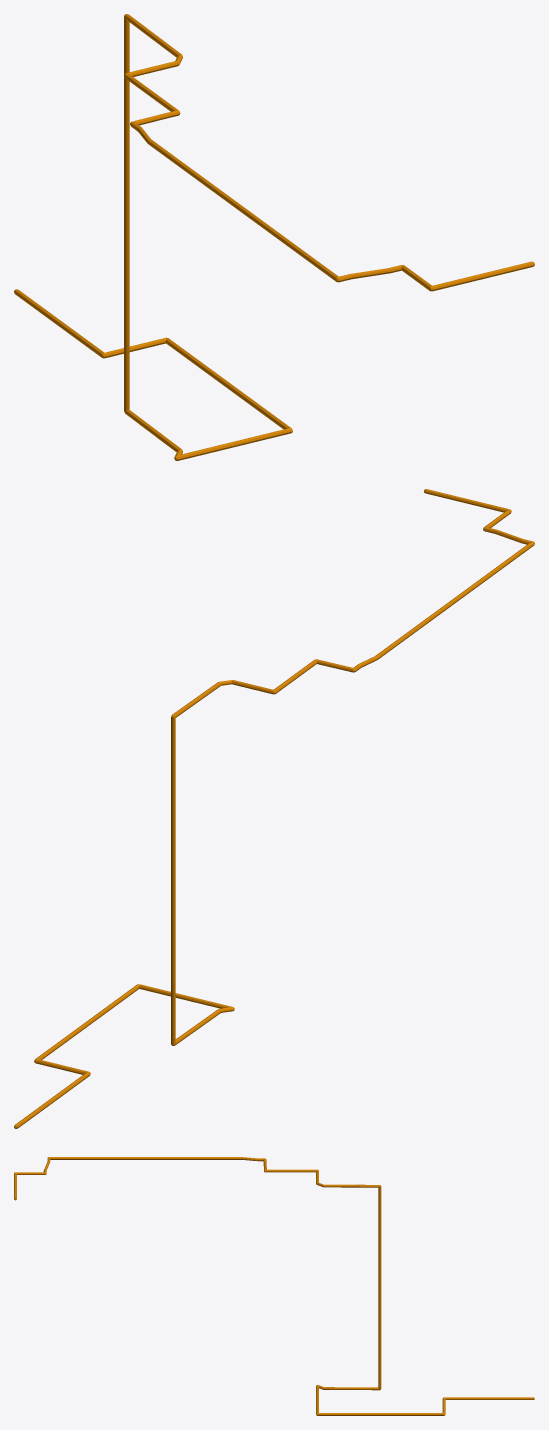
3 views of the same model, one above another, from view 1: azimuth 30°, elevation 25°; view 2: azimuth 150°, elevation 25°; view 3: azimuth 270°, elevation 25° (orthographic). The views are drawn at different scales.
Bounding box in the file's own units: 870 × 1520 × 3498.
